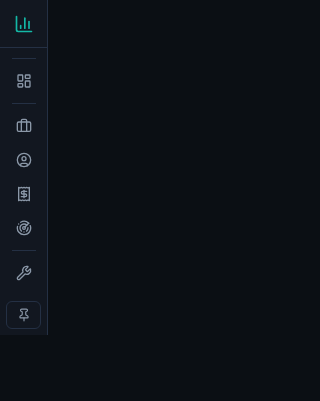
it: AdminRail groups (UI5-08) › expone los tres grupos y sitúa AUTO en Administración
Expandido para que los encabezados de grupo sean visibles.
Hover over the element with test id "admin-rail" at coordinates (24, 168), box [0,0,48,335]
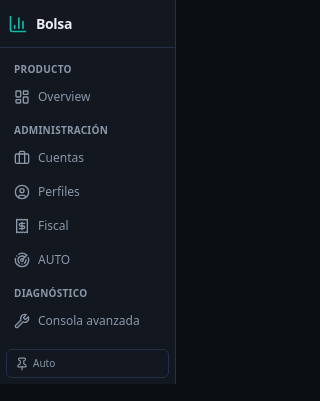
Now the element with test id "admin-rail-group-product" shows "Producto", box [14,62,72,76]
Now the element with test id "admin-rail-group-admin" shows "Administración", box [14,123,108,137]
Now the element with test id "admin-rail-group-admin" shows "AUTO", box [6,244,169,276]
